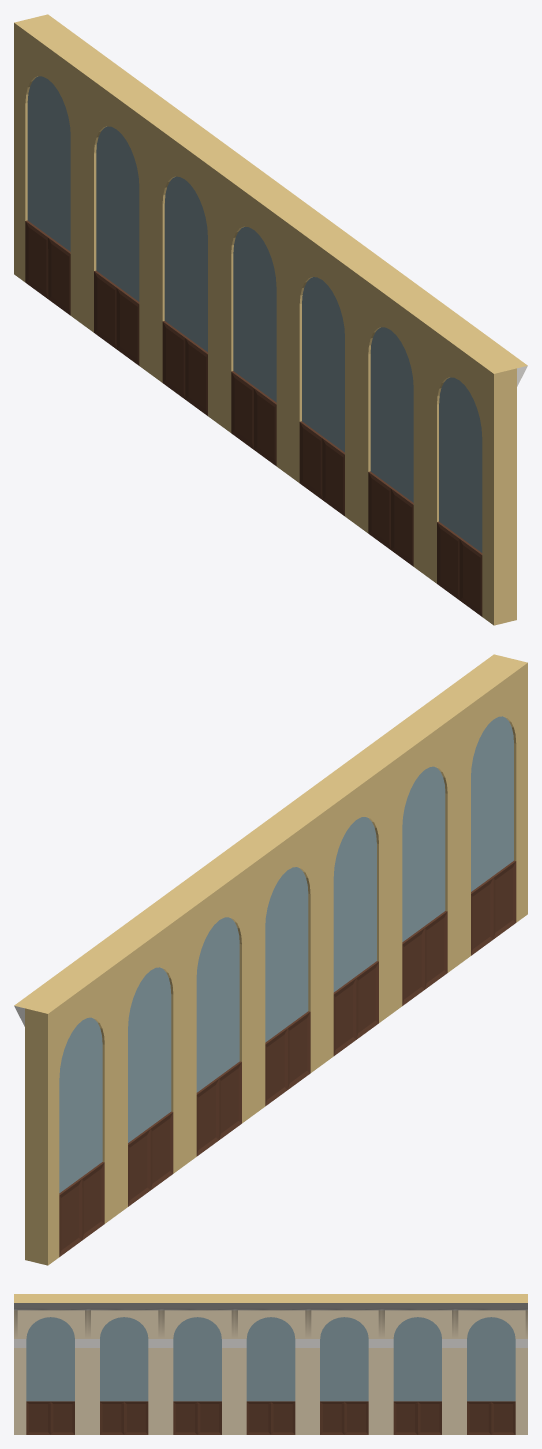
File: SallePasPerdus_Mur03.fbx
3 views of the same model, one above another, from view 1: azimuth 30°, elevation 25°; view 2: azimuth 150°, elevation 25°; view 3: azimuth 270°, elevation 25° (orthographic). The views are drawn at different scales.
Visible parts, largest first — view 1: Mur03; view 2: Mur03; view 3: Mur03.
Part boxes in pixels (left/top/right/bottom): Mur03: left=14, top=14, right=527, bottom=625; Mur03: left=14, top=654, right=527, bottom=1265; Mur03: left=14, top=1294, right=527, bottom=1434.
Size of the model in its own units: 0.8405 by 5.94 by 20.55.
